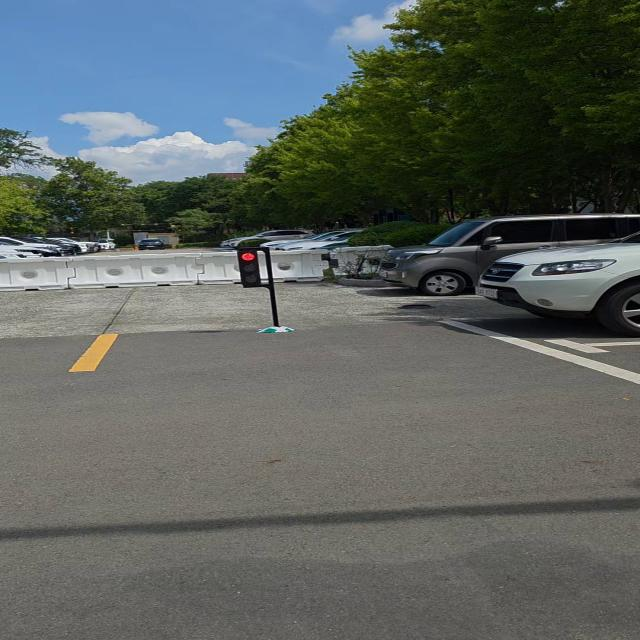red: (234, 246, 264, 286)
